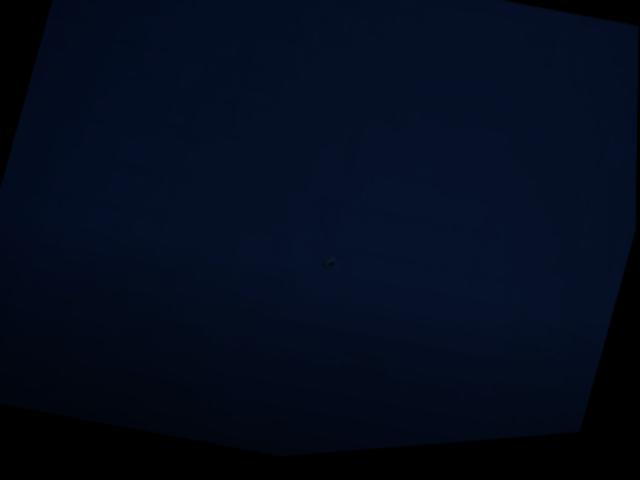iha: (324, 259, 338, 275)
